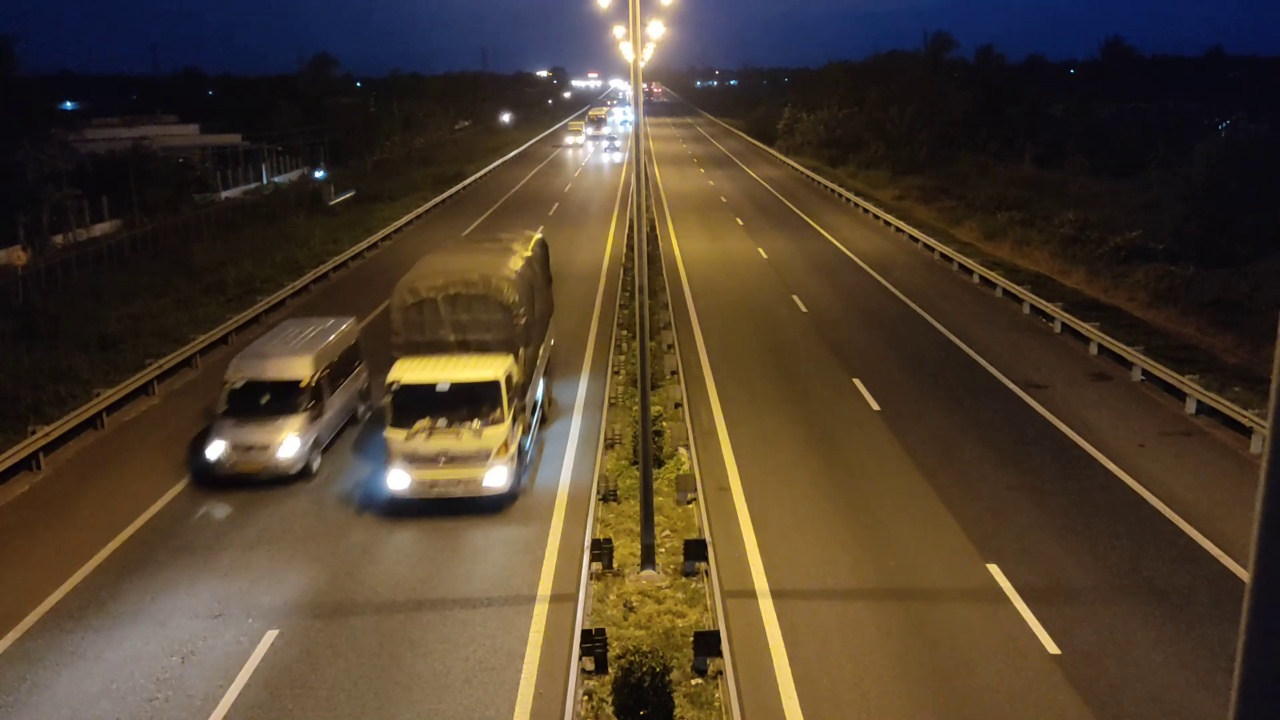car: (187, 313, 375, 487)
truck: (381, 226, 557, 513)
